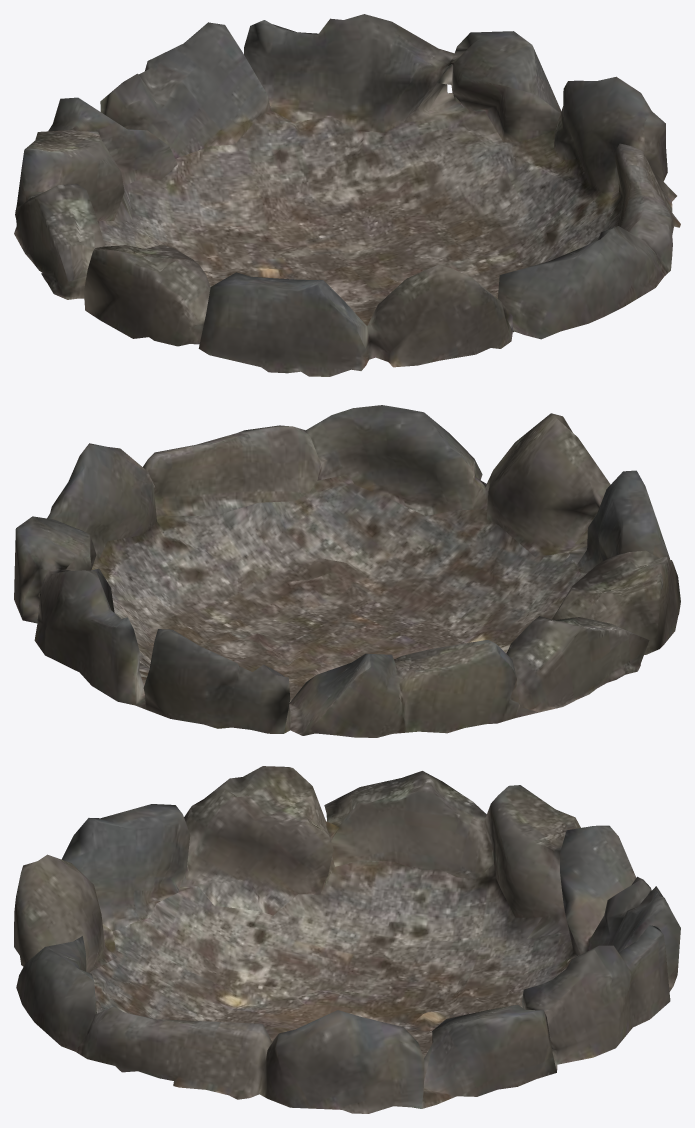
Rendered from prop_firepit_01.glb.
3 renders of one model, top to bottom at view 1: azimuth 30°, elevation 25°; view 2: azimuth 150°, elevation 25°; view 3: azimuth 270°, elevation 25°, orthographic.
Visible parts, largest first — view 1: prop_firepit_01; view 2: prop_firepit_01; view 3: prop_firepit_01.
Part boxes in pixels (bbox=[...]): prop_firepit_01: bbox=[14, 14, 680, 376]; prop_firepit_01: bbox=[14, 405, 680, 737]; prop_firepit_01: bbox=[14, 766, 680, 1113].
Size of the model in its own units: 1.45 by 0.3841 by 1.43.
Materials: 1 (1 with a texture image).
